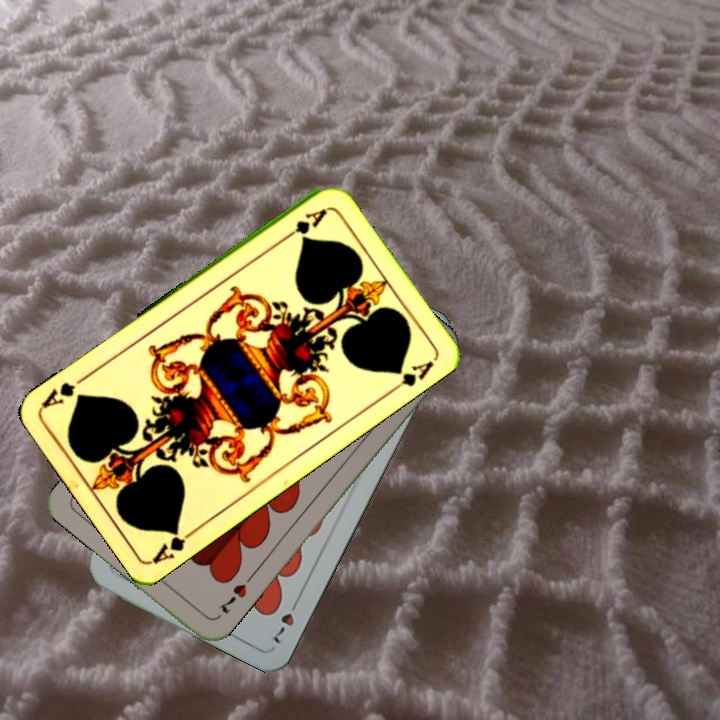GA: (149, 523, 200, 566), (278, 204, 330, 244)
H7: (269, 593, 303, 647), (215, 579, 250, 617)
